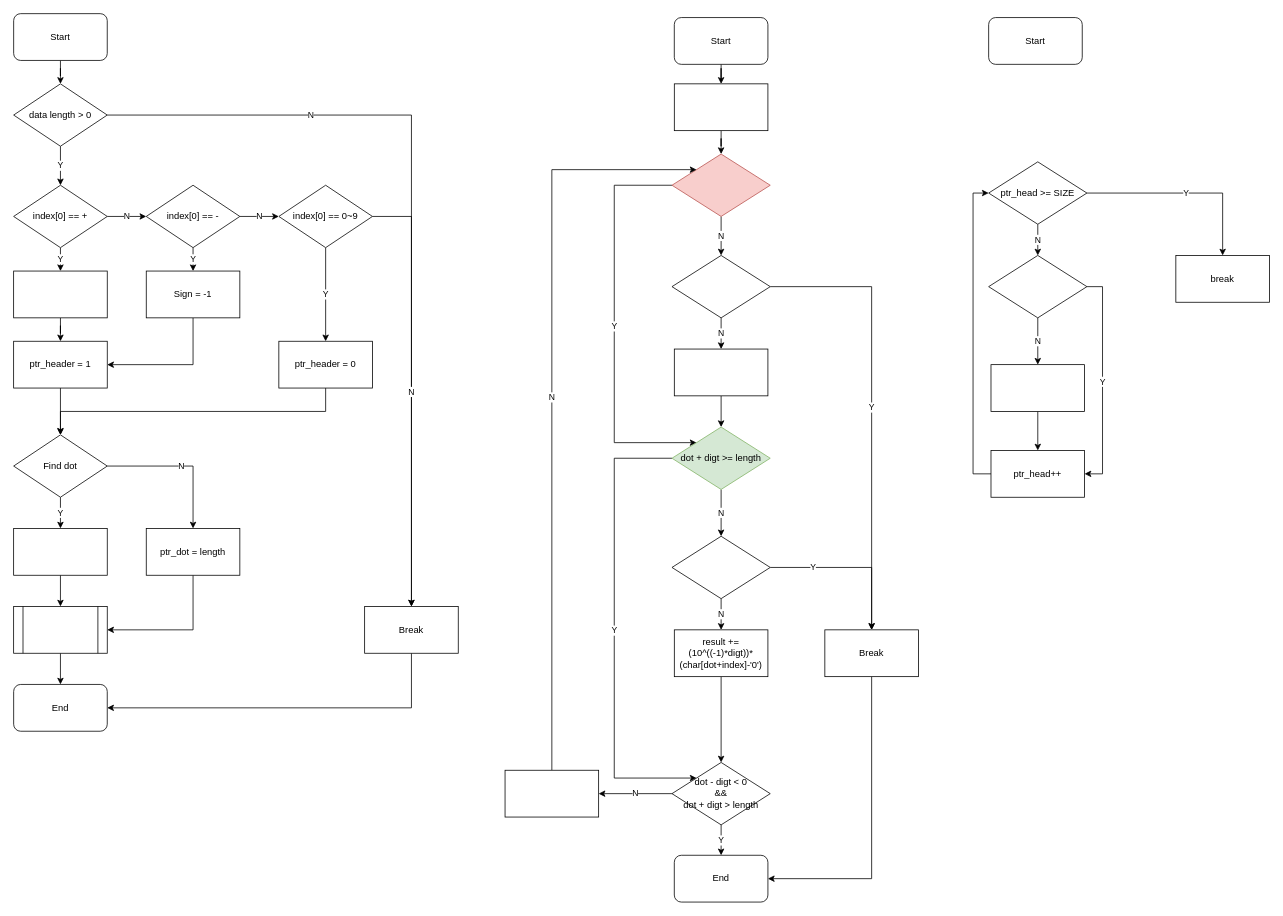
Image size: 1283x916. Some labels were removed from this diagram. The shapes that lost their labels are listed below. From the top down, each one's box as (x1, y1, x2, y2) in pixels, then its label:
(674, 83, 768, 131): digt = 1
(671, 153, 770, 216): dot - digt < 0
(13, 270, 107, 318): Sign = +1
(671, 255, 770, 318): char[dot-digt] < '0' || >'9'
(988, 255, 1087, 318): ptr_head == ptr_dot
(674, 348, 768, 396): result += (10^(digt))* (char[dot-index]-'0')
(990, 364, 1085, 411): (char[i]-'0')* pow(10, ptr_dot-ptr_head-1)
(13, 528, 107, 575): ptr_dot = i
(671, 535, 770, 599): char[dot+digt] < '0' || >'9'
(13, 606, 107, 653): generate numeric
(504, 769, 599, 817): digt++
